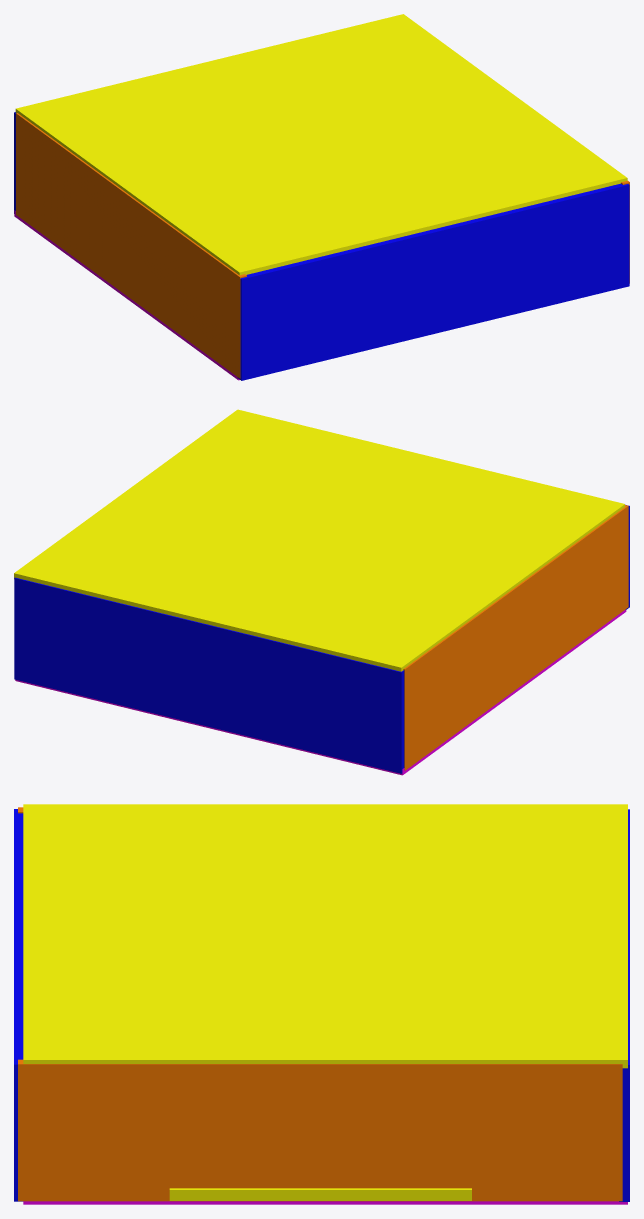
The model's file is main_stage.glb.
The picture shows the model from 3 angles, top to bottom: view 1: azimuth 30°, elevation 25°; view 2: azimuth 150°, elevation 25°; view 3: azimuth 270°, elevation 25°; orthographic projection. The views are drawn at different scales.
Visible parts, largest first — view 1: Cube.006, Cube.002, Cube.004, Cube; view 2: Cube.006, Cube.001, Cube.004, Cube; view 3: Cube.006, Cube.003, Cube.005, Cube.002, Cube, Cube.001.
Boxes of the visible parts, x1,y1,x2,y2 form: Cube.006: (15, 14, 627, 275); Cube.002: (237, 183, 629, 380); Cube.004: (16, 113, 246, 378); Cube: (14, 210, 239, 380); Cube.006: (14, 409, 624, 671); Cube.001: (14, 577, 404, 773); Cube.004: (403, 505, 628, 770); Cube: (15, 609, 626, 775); Cube.006: (23, 804, 627, 1068); Cube.003: (18, 1059, 622, 1201); Cube.005: (169, 1188, 471, 1200); Cube.002: (14, 809, 23, 1201); Cube: (23, 1201, 627, 1204); Cube.001: (619, 809, 629, 1201).
Size of the model in its own units: 20.25 by 5.3 by 20.37.
